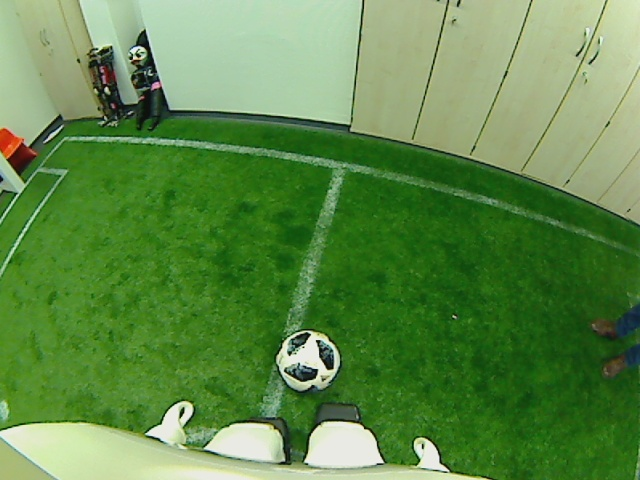ball: (273, 325, 341, 394)
